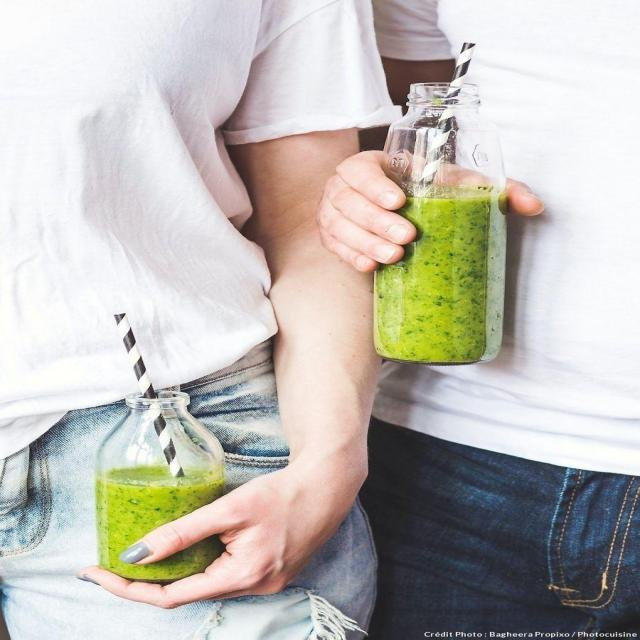bottle-glass: (362, 76, 506, 367), (99, 388, 230, 582)
